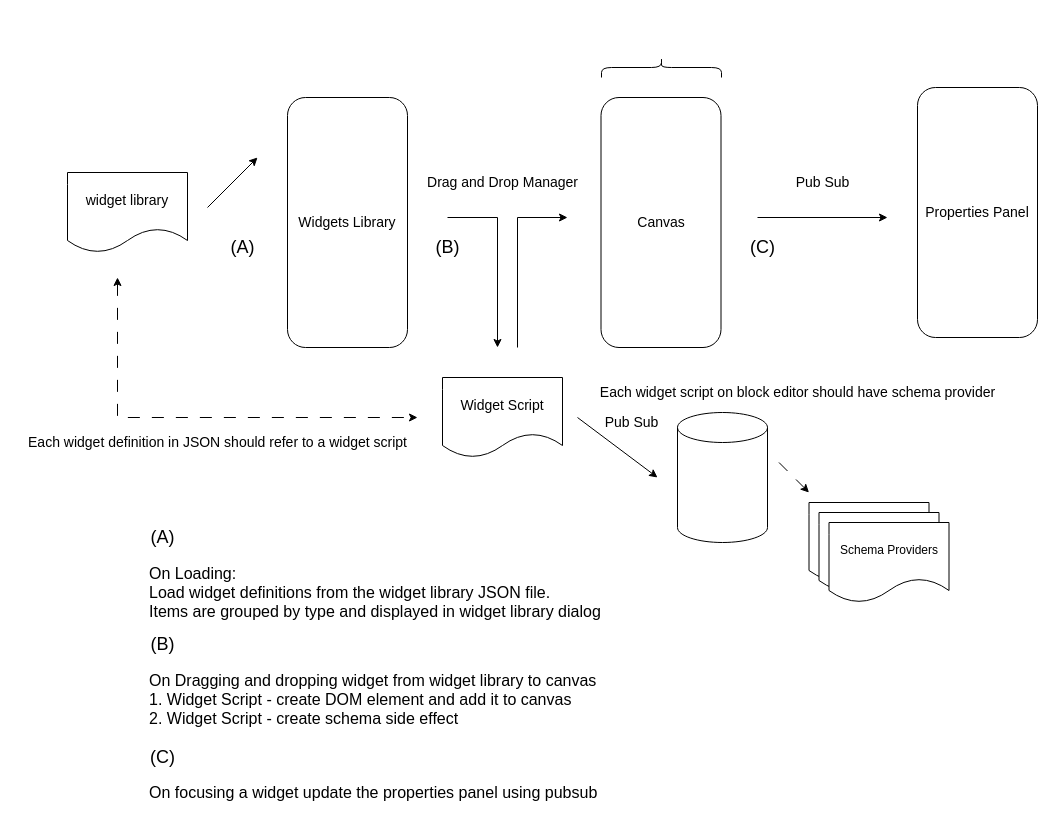
Image size: 1055x824. Some labels were removed from this diagram. Each missing label, with the box of its shape:
Canvas Manager: (600, 56, 722, 78)
Schema Manager: (676, 412, 768, 542)
